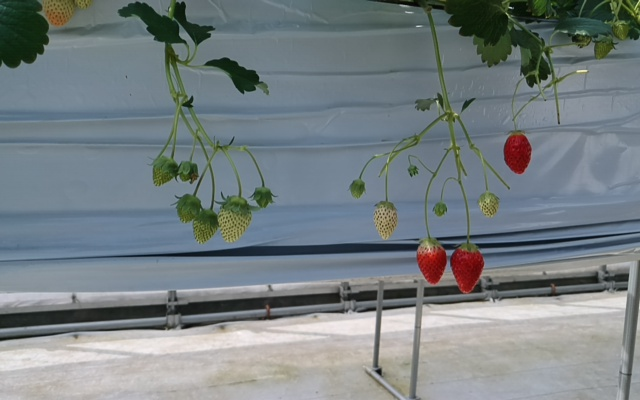GreenStrawberry: (217, 194, 252, 244), (373, 201, 398, 242), (192, 209, 219, 245), (42, 1, 78, 27), (152, 156, 179, 188), (174, 193, 200, 225), (590, 34, 616, 61), (477, 191, 501, 218), (612, 21, 630, 42)
MatureStrawberry: (450, 241, 485, 295), (415, 237, 448, 285), (501, 132, 533, 175)
